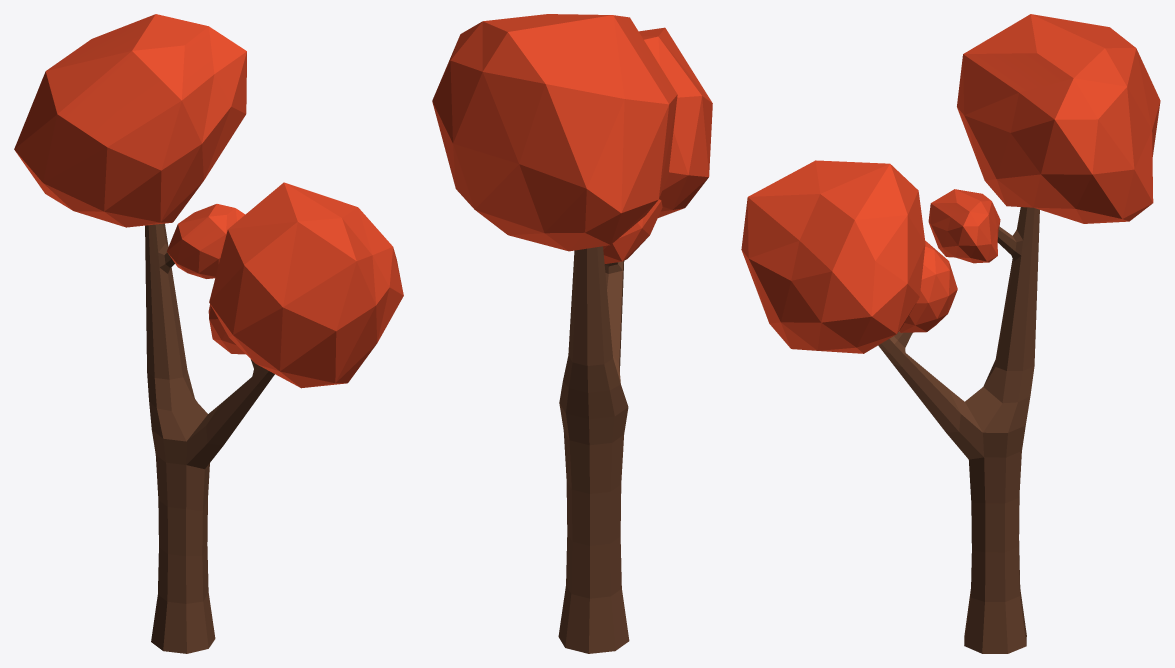
Rendered from Natures2t7-orange.fbx.
3 views of the same model, side by side, from view 1: azimuth 30°, elevation 25°; view 2: azimuth 150°, elevation 25°; view 3: azimuth 270°, elevation 25° (orthographic). The views are drawn at different scales.
Parts seen in each view (by area): view 1: t7-orange; view 2: t7-orange; view 3: t7-orange.
Boxes of the visible parts, x1,y1,x2,y2 form: t7-orange: [14, 14, 403, 653]; t7-orange: [432, 14, 712, 653]; t7-orange: [741, 14, 1160, 653].
Size of the model in its own units: 454 by 1002 by 625.
